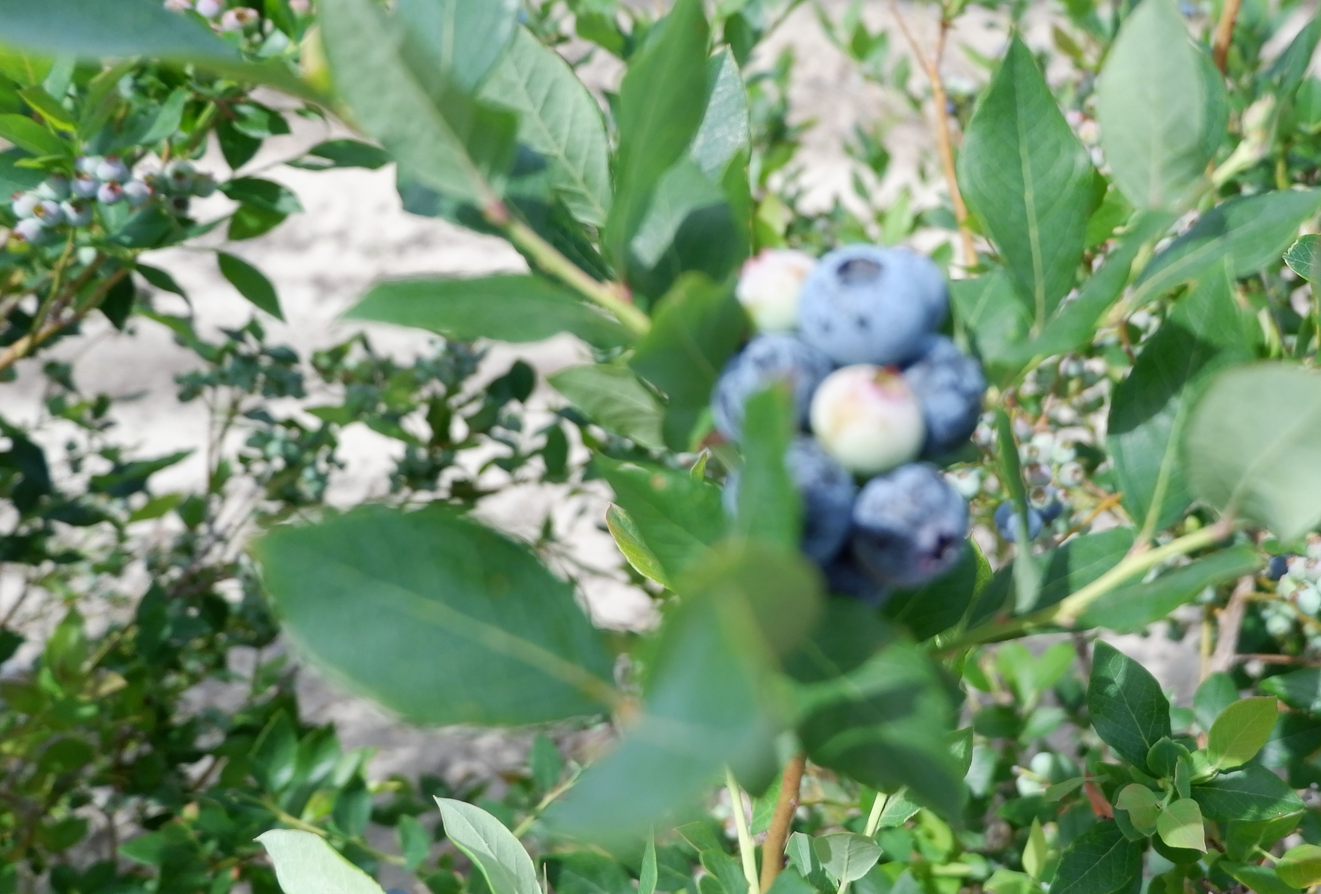Immature: (816, 367, 922, 475), (739, 251, 815, 332)
Mature: (793, 244, 931, 368), (854, 466, 968, 586), (712, 334, 834, 441), (885, 336, 985, 460), (784, 441, 857, 560), (894, 245, 953, 336), (820, 547, 892, 603)
